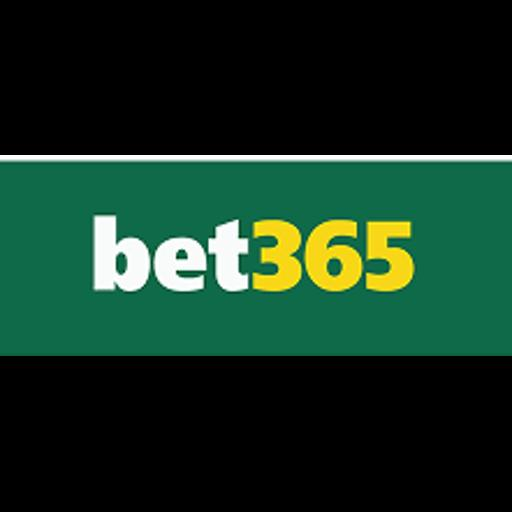Bet365: (0, 155, 512, 356)
